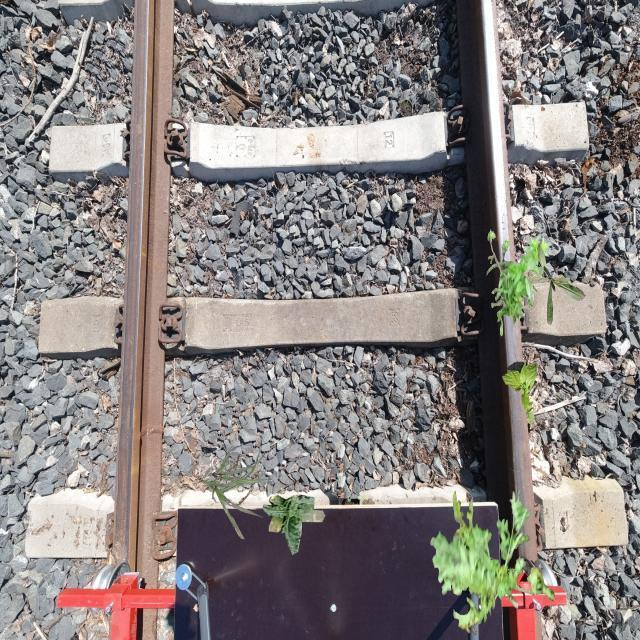Plant: (430, 489, 555, 636), (487, 229, 552, 336), (200, 446, 273, 540), (522, 242, 586, 326), (262, 495, 326, 557), (502, 361, 538, 424)
